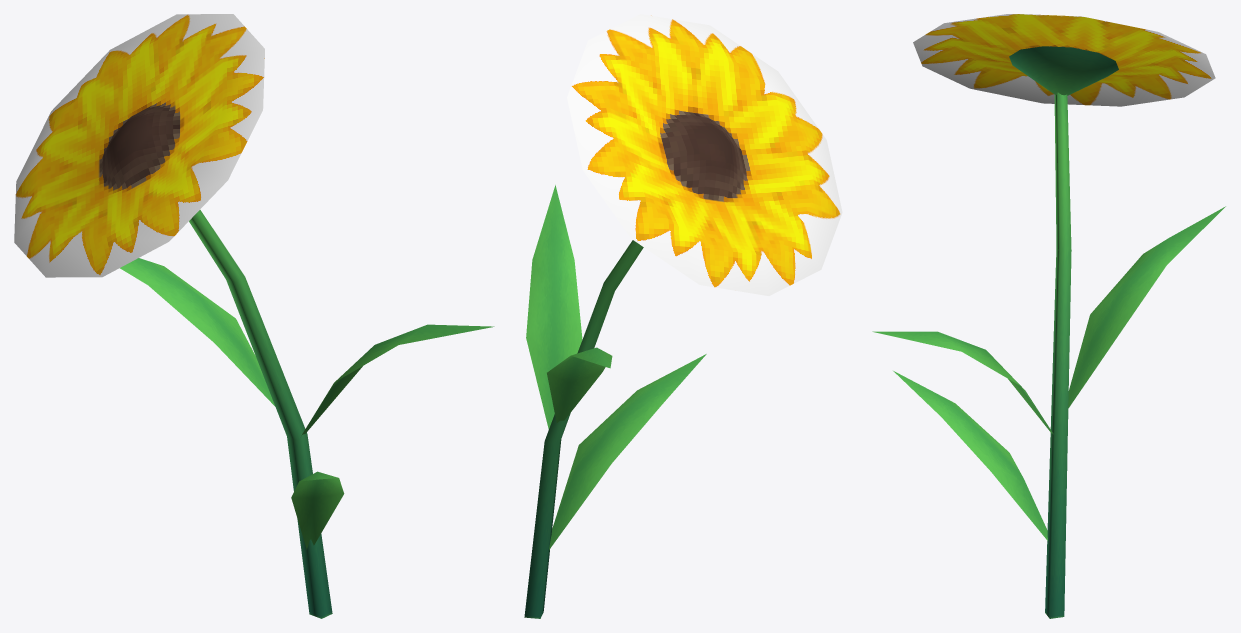
Rendered from Flower_Sunflower_3.glb.
3 views of the same model, side by side, from view 1: azimuth 30°, elevation 25°; view 2: azimuth 150°, elevation 25°; view 3: azimuth 270°, elevation 25° (orthographic). The views are drawn at different scales.
Visible parts, largest first — view 1: Cylinder.081_Cylinder.151, Cube.079_Cube.245, object6.058_object6.005, object6.054_object6.002, object6.026_object6.001; view 2: Cylinder.081_Cylinder.151, object6.026_object6.001, object6.054_object6.002, Cube.079_Cube.245, object6.058_object6.005; view 3: Cylinder.081_Cylinder.151, Cube.079_Cube.245, object6.058_object6.005, object6.054_object6.002, Cylinder.083_Cylinder.152, object6.026_object6.001.
Boxes of the visible parts, x1,y1,x2,y2 form: Cylinder.081_Cylinder.151: (14, 14, 264, 277); Cube.079_Cube.245: (189, 210, 332, 618); object6.058_object6.005: (120, 258, 275, 406); object6.054_object6.002: (291, 471, 344, 549); object6.026_object6.001: (301, 324, 494, 435); Cylinder.081_Cylinder.151: (567, 14, 842, 295); object6.026_object6.001: (526, 185, 582, 429); object6.054_object6.002: (549, 354, 706, 549); Cube.079_Cube.245: (524, 240, 643, 618); object6.058_object6.005: (547, 347, 612, 422); Cylinder.081_Cylinder.151: (913, 14, 1215, 106); Cube.079_Cube.245: (1045, 92, 1071, 618); object6.058_object6.005: (1068, 206, 1225, 408); object6.054_object6.002: (893, 371, 1047, 540); Cylinder.083_Cylinder.152: (1009, 46, 1118, 95); object6.026_object6.001: (872, 331, 1053, 434).
Size of the model in its own units: 0.5723 by 0.9238 by 0.5261.
3 materials, 3 textured.
